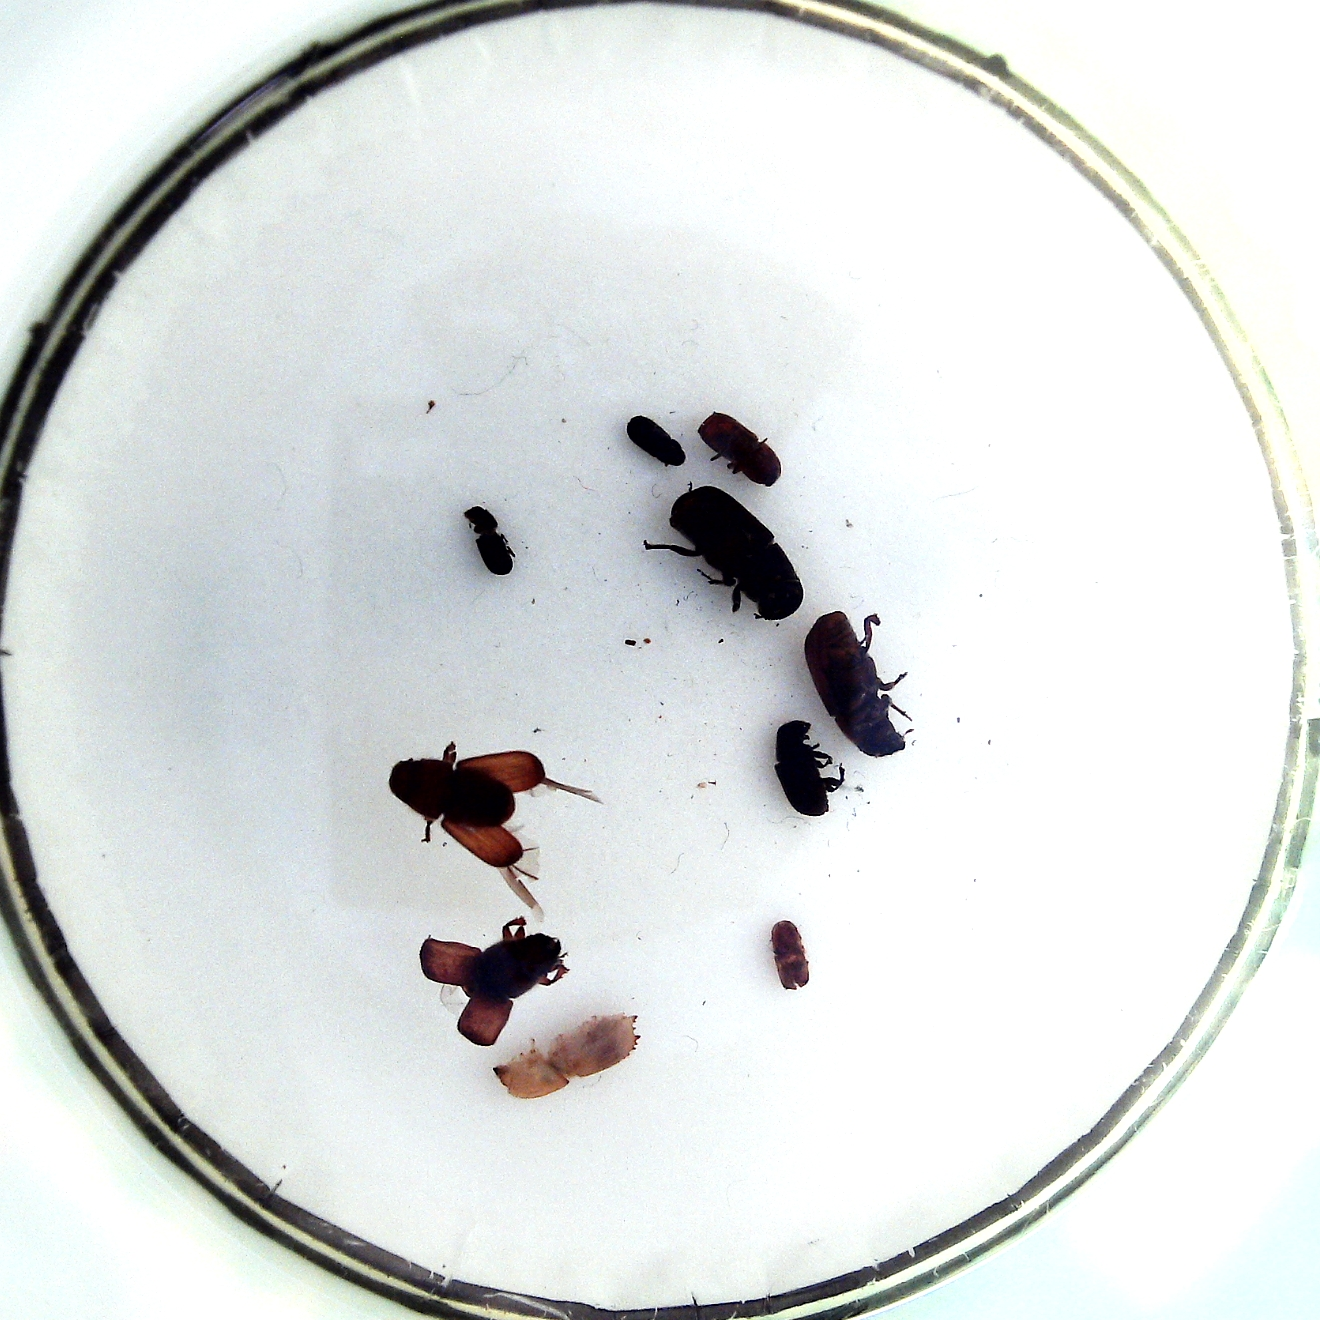Boerner: (492, 1011, 641, 1099)
Leconte: (668, 484, 805, 621), (804, 610, 907, 758), (390, 757, 516, 830), (458, 933, 561, 1005)
acuminatus: (463, 503, 515, 575)
armandi: (774, 720, 830, 817)
coleoptera: (626, 413, 687, 468), (772, 919, 811, 990)
linnaeus: (697, 412, 783, 487)
